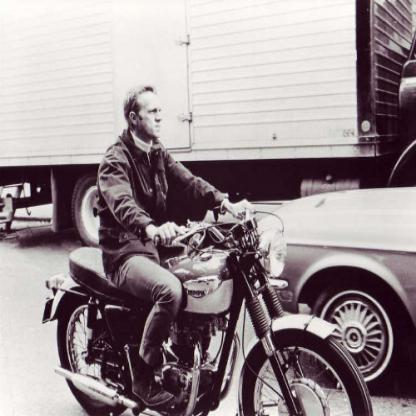Without Helmet: (119, 83, 162, 138)
